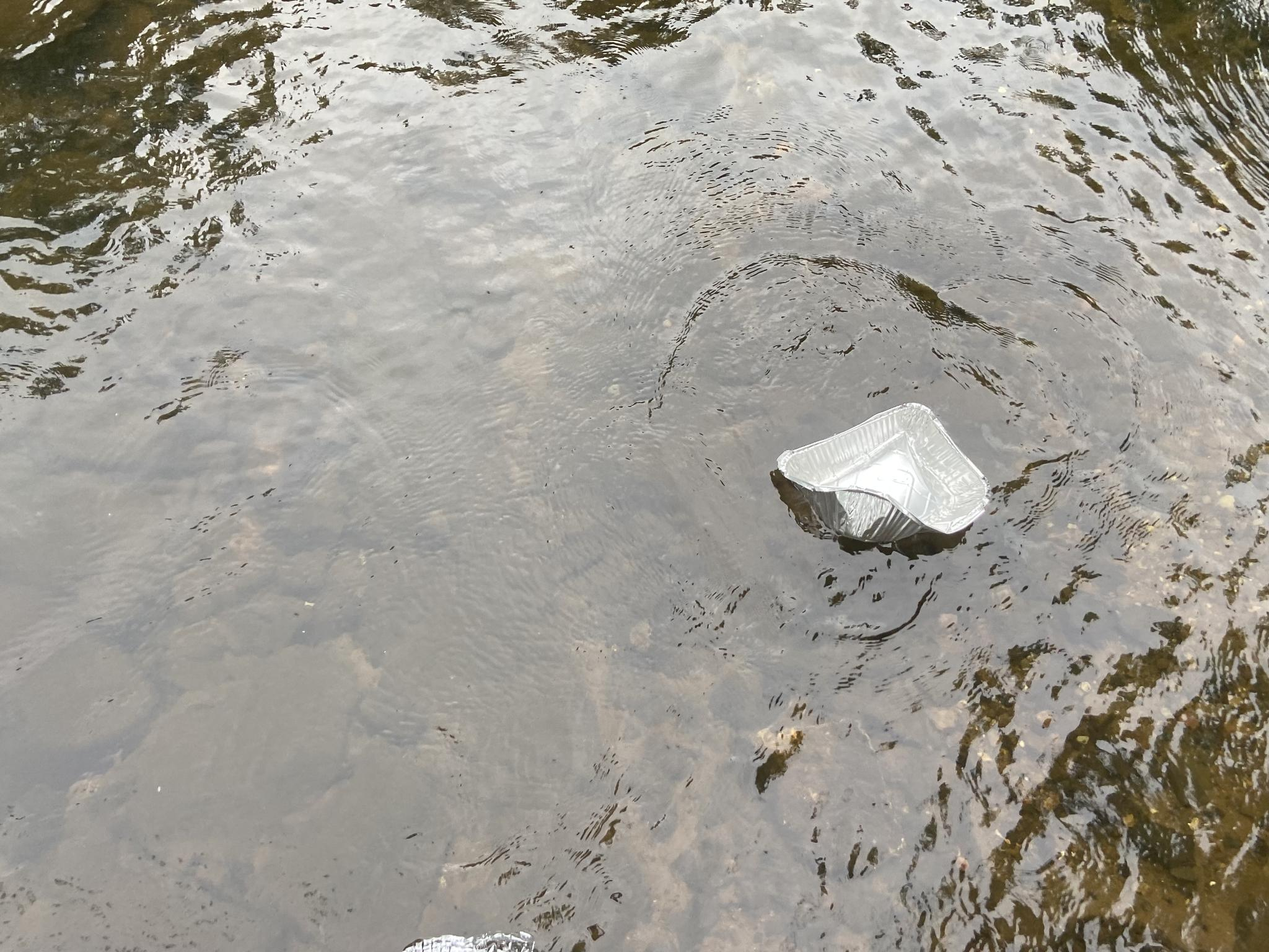metal: (770, 392, 998, 554), (392, 922, 551, 952)
